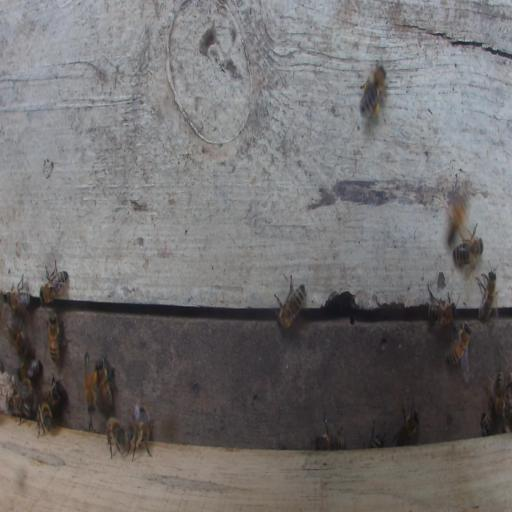bee: (356, 62, 388, 122), (272, 284, 308, 332), (424, 293, 457, 333), (38, 267, 70, 306), (126, 415, 152, 461), (448, 188, 469, 241), (448, 322, 471, 367), (105, 416, 129, 459), (394, 409, 420, 448), (95, 357, 113, 411), (4, 287, 34, 318), (453, 237, 485, 265), (6, 318, 28, 356), (480, 270, 496, 322), (84, 350, 96, 413), (8, 392, 33, 422), (314, 432, 348, 452), (17, 359, 43, 385), (36, 401, 53, 438), (48, 314, 59, 365), (47, 374, 62, 409), (503, 377, 512, 431), (494, 371, 504, 418), (480, 411, 493, 437), (368, 432, 386, 448)
